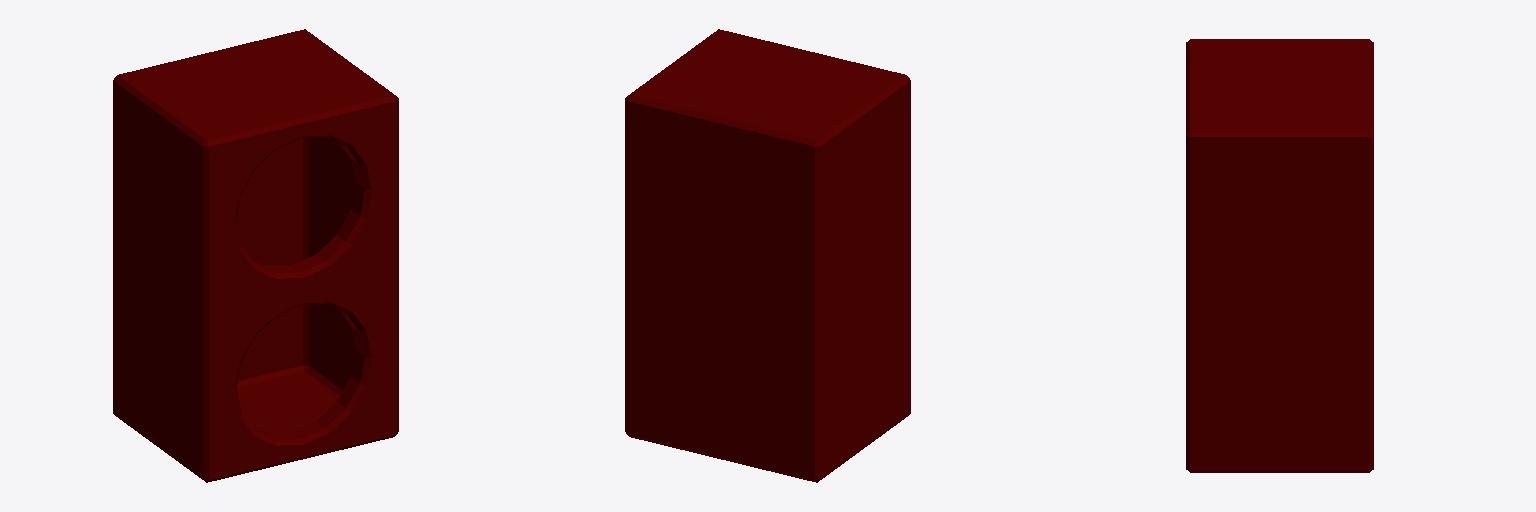
File: SpeakerBase.obj
3 views of the same model, side by side, from view 1: azimuth 30°, elevation 25°; view 2: azimuth 150°, elevation 25°; view 3: azimuth 270°, elevation 25° (orthographic).
Parts seen in each view (by area): view 1: Cube; view 2: Cube; view 3: Cube.
Boxes of the visible parts, box(x1,y1,x2,y2) form: Cube: box(113, 29, 398, 482); Cube: box(625, 29, 910, 482); Cube: box(1186, 39, 1373, 472).
Bounding box in the file's own units: 1.2 × 2 × 1.